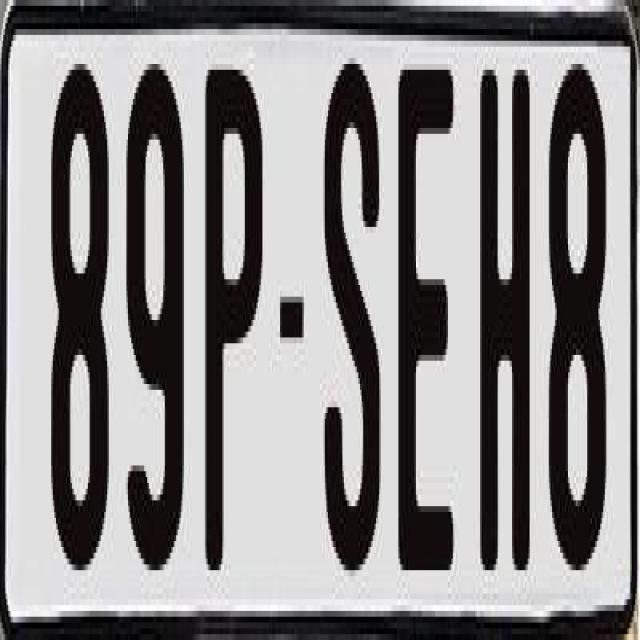8: (51, 58, 114, 564), (544, 46, 602, 552)
9: (121, 58, 186, 564)
E: (398, 70, 453, 576)
H: (480, 70, 539, 576)
P: (202, 70, 260, 606)
S: (324, 52, 380, 576)
